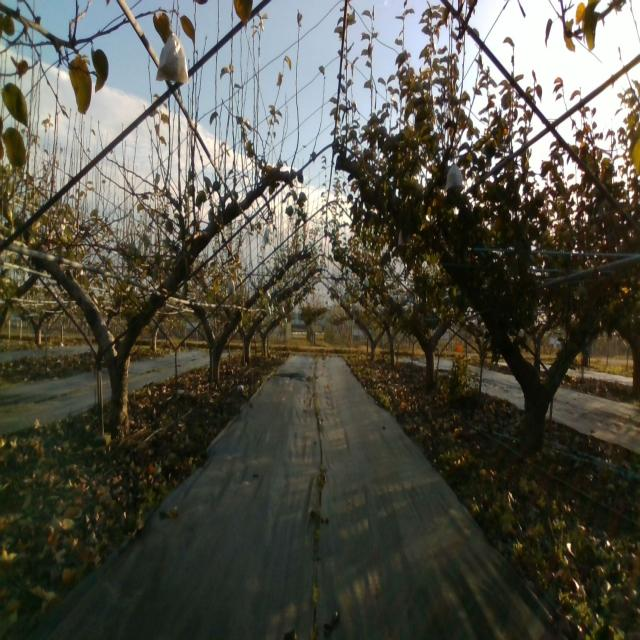pearbags: (154, 32, 188, 84), (444, 160, 464, 190)
